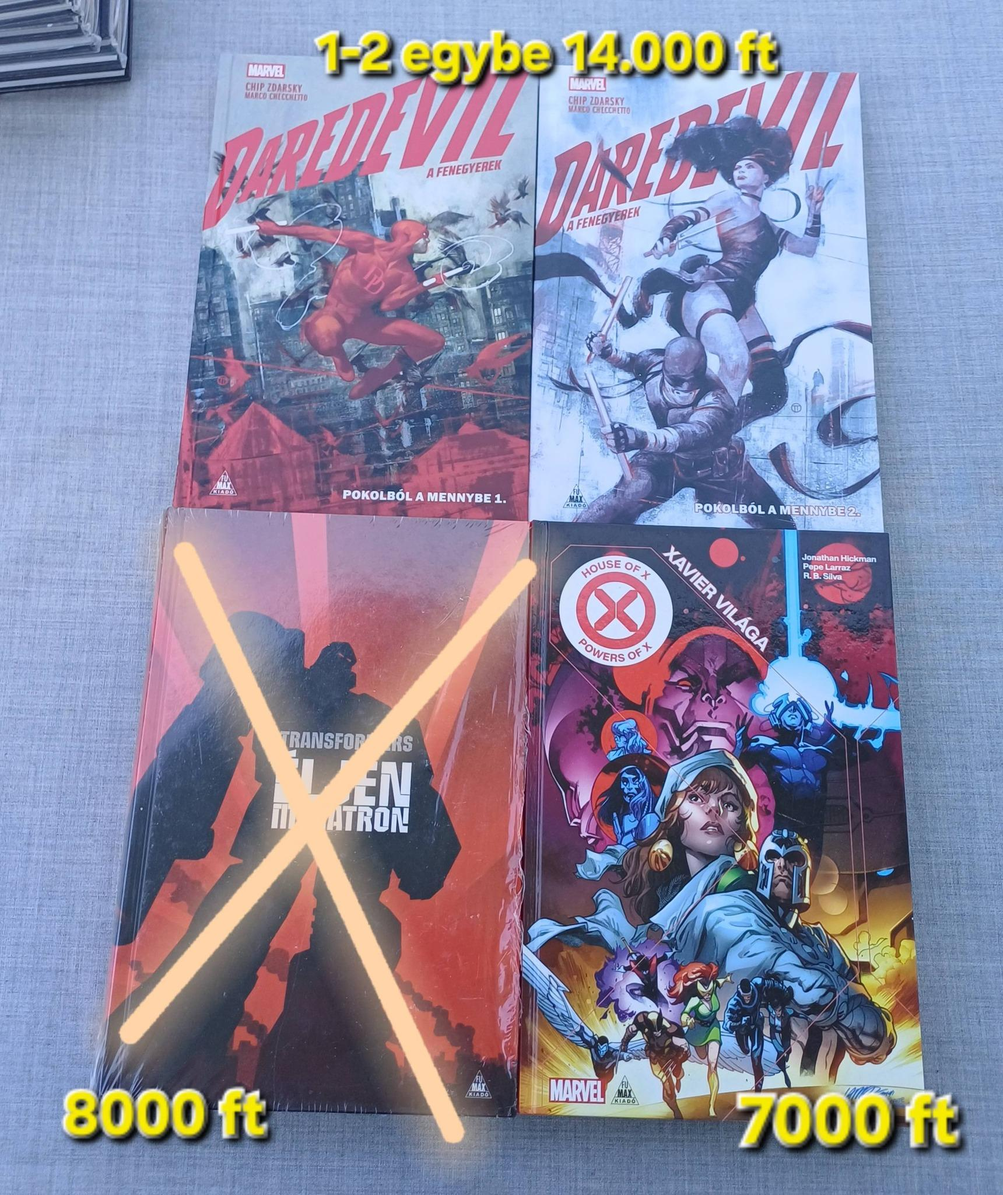comic: (95, 479, 531, 1133), (520, 523, 932, 1122), (175, 48, 551, 523), (531, 68, 887, 531)
